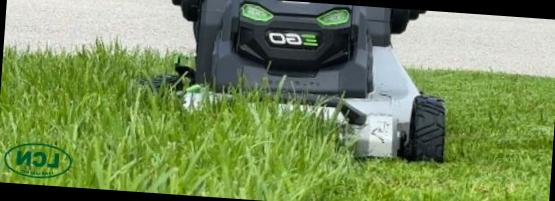overgrown grass: (0, 47, 339, 201)
